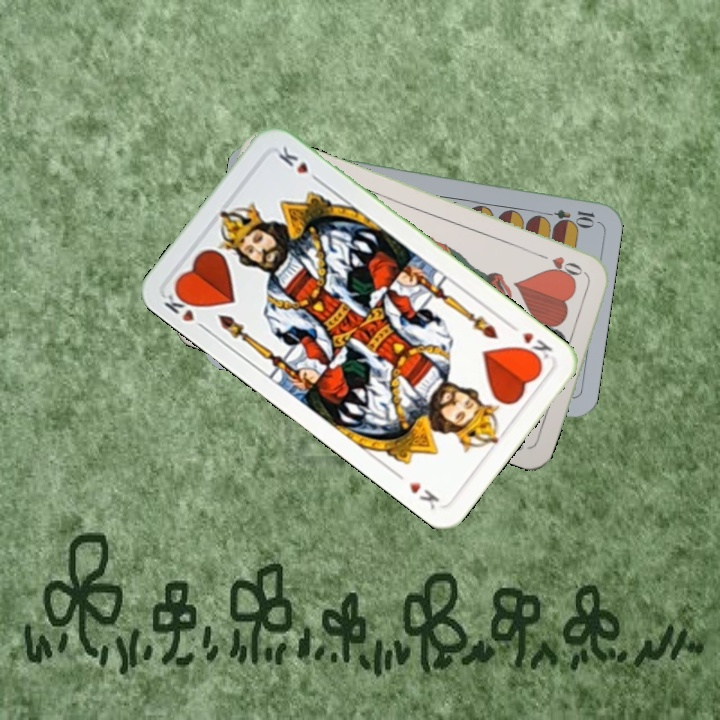E10: (538, 205, 597, 227)
HK: (159, 284, 210, 334), (515, 328, 555, 366)
HO: (534, 249, 591, 280)
